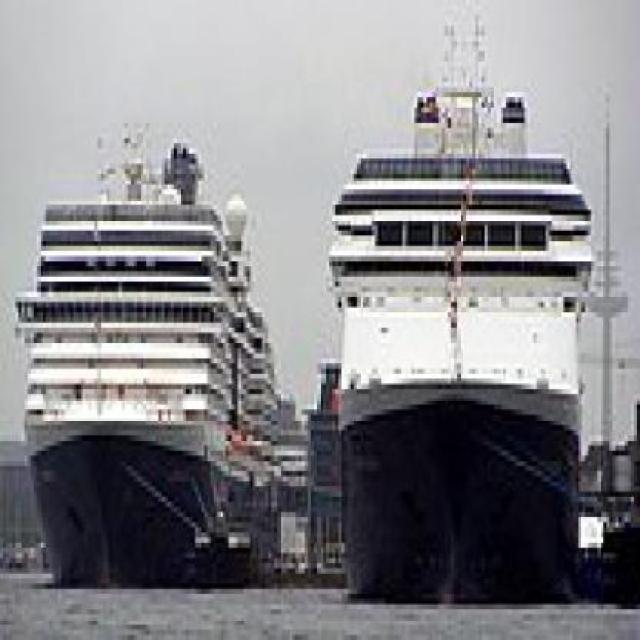cruise: (321, 11, 607, 626), (4, 103, 287, 605)
